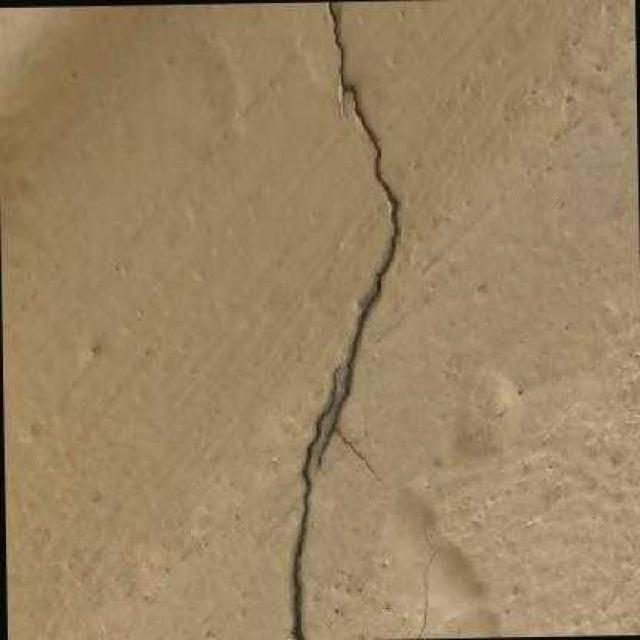D00: (314, 0, 399, 476), (289, 349, 342, 640)
